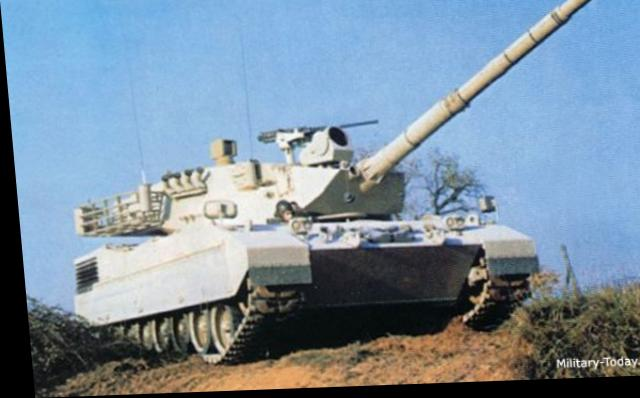tank: (61, 151, 533, 352)
